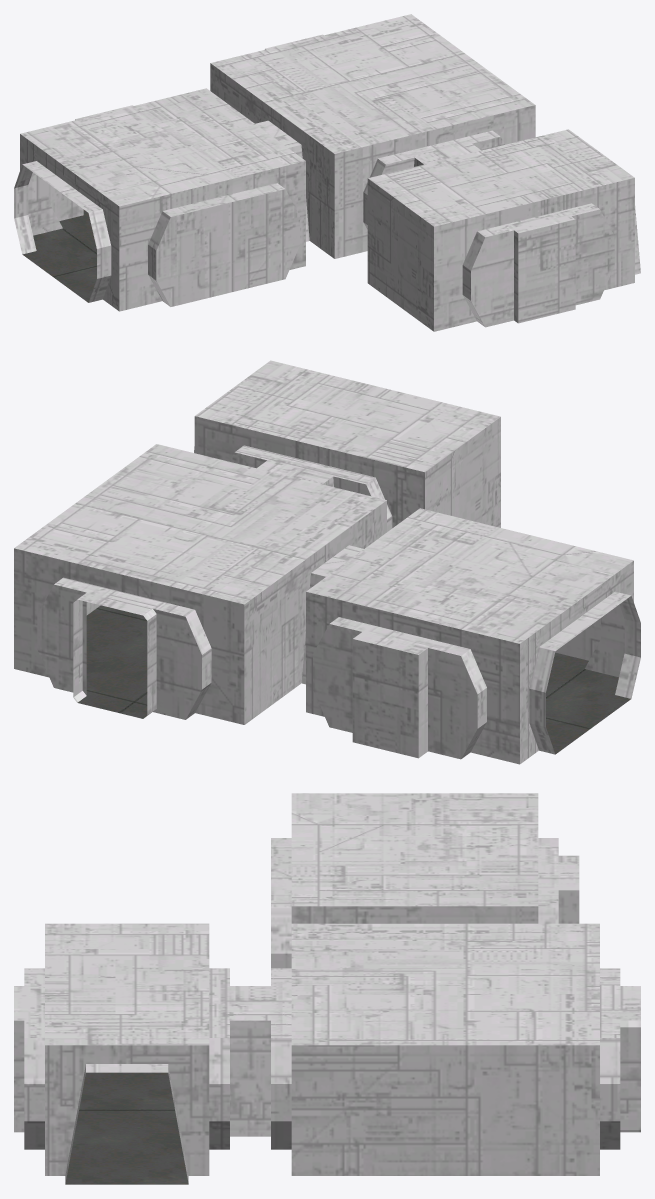
Rendered from thm_spc_star_destroyer_s01_r32_hallway11_mesh_r32.fbx.
3 views of the same model, one above another, from view 1: azimuth 30°, elevation 25°; view 2: azimuth 150°, elevation 25°; view 3: azimuth 270°, elevation 25° (orthographic). The views are drawn at different scales.
Parts seen in each view (by area): view 1: mesh_node; view 2: mesh_node; view 3: mesh_node.
Boxes of the visible parts, x1=… form: mesh_node: x1=14, y1=14, x2=640, y2=331; mesh_node: x1=14, y1=360, x2=640, y2=764; mesh_node: x1=14, y1=793, x2=640, y2=1184.
Size of the model in its own units: 15.5 by 3.5 by 15.25.
Materials: 2 (2 with a texture image).
